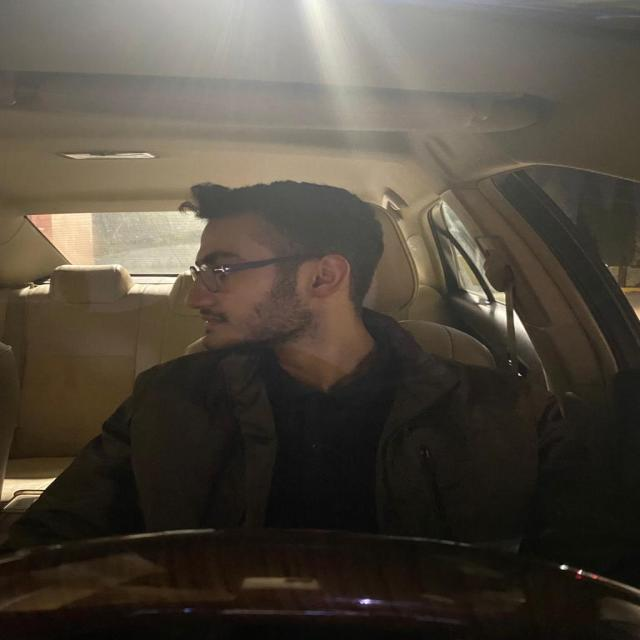LeftRight: (177, 175, 389, 359)
